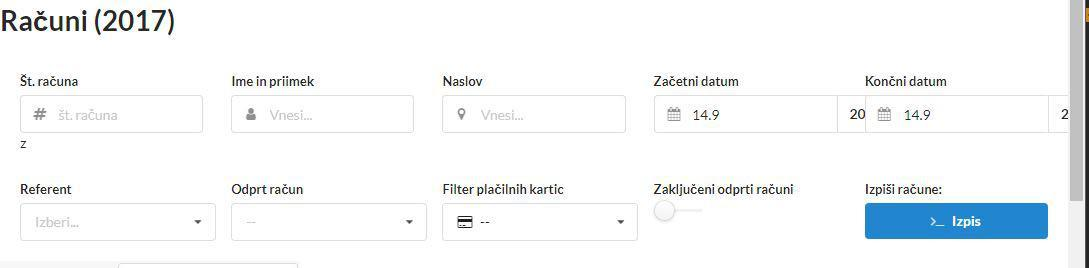button: (866, 204, 1051, 241)
dropdown: (20, 203, 219, 244), (231, 203, 429, 244), (444, 202, 641, 243)
input: (868, 93, 1051, 134), (22, 95, 205, 134), (443, 96, 626, 135), (655, 96, 840, 134), (232, 97, 416, 134)
label: (647, 176, 799, 199), (436, 181, 569, 197), (228, 73, 323, 94), (865, 72, 953, 89), (862, 182, 943, 200), (230, 179, 314, 196), (655, 73, 742, 89), (16, 179, 78, 199), (11, 74, 84, 89), (439, 73, 488, 89)
slider: (653, 200, 707, 224)
